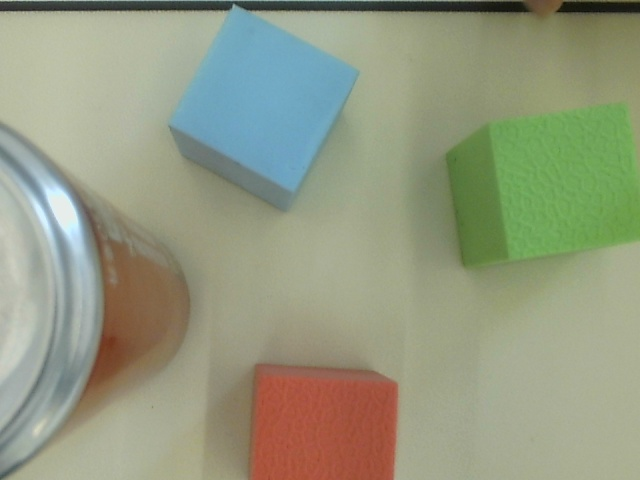bluecube: (152, 1, 375, 216)
cola: (1, 115, 197, 480)
greencube: (430, 96, 640, 272)
redcube: (233, 360, 408, 480)
